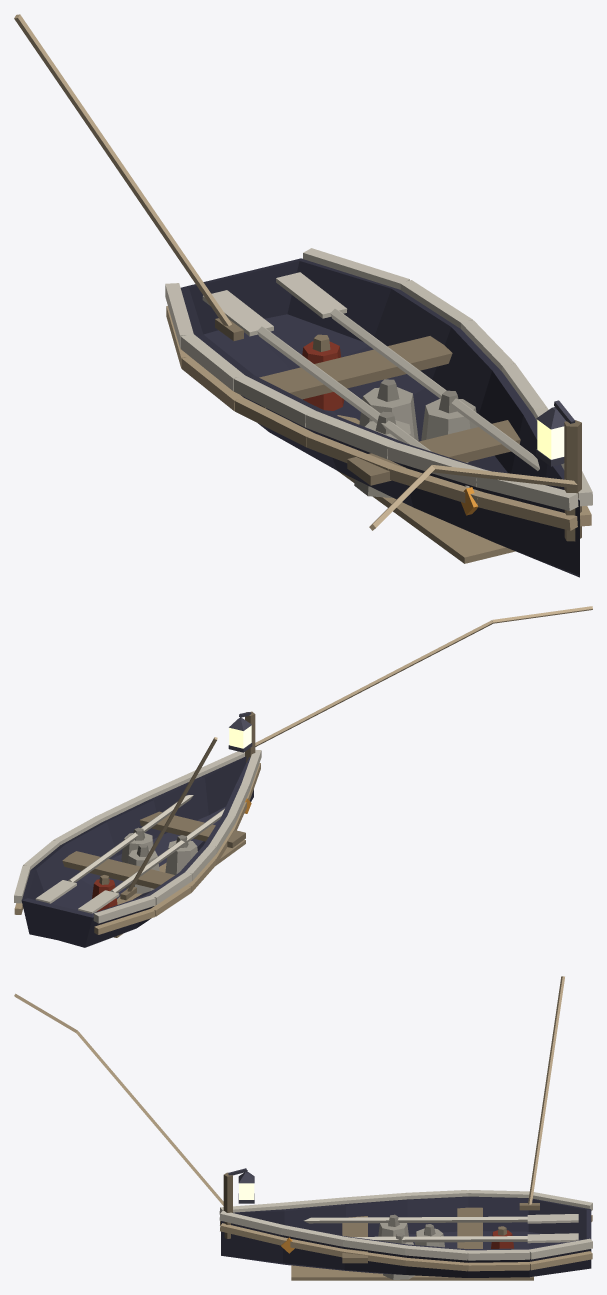
Rendered from kindleby_skiff_stage.glb.
The picture shows the model from 3 angles, top to bottom: view 1: azimuth 30°, elevation 25°; view 2: azimuth 150°, elevation 25°; view 3: azimuth 270°, elevation 25°; orthographic projection. The views are drawn at different scales.
Parts seen in each view (by area): view 1: ink_l12, bone_d12, driftwood_d30, driftwood_d10, driftwood_l5, bone_d28, driftwood_d20, driftwood_d35, coal_d25, bone_d40, kindle_glow, ink_l20; view 2: ink_l12, bone_d12, driftwood_d30, driftwood_l5, driftwood_d10, bone_d28; view 3: ink_l12, bone_d12, driftwood_d10, driftwood_l5, driftwood_d30, driftwood_d20, bone_d28, driftwood_d35.
Boxes of the visible parts, x1,y1,x2,y2 form: ink_l12: (180,258,579,577); bone_d12: (165,248,592,510); driftwood_d30: (215,318,520,485); driftwood_d10: (166,306,591,530); driftwood_l5: (14,14,577,530); bone_d28: (354,387,477,497); driftwood_d20: (337,415,515,563); driftwood_d35: (564,420,581,541); coal_d25: (302,341,344,410); bone_d40: (375,379,458,434); kindle_glow: (537,420,564,459); ink_l20: (536,400,575,466); ink_l12: (21,756,253,947); bone_d12: (14,749,261,923); driftwood_d30: (62,811,245,900); driftwood_l5: (127,606,592,891); driftwood_d10: (14,763,260,934); bone_d28: (121,833,197,893); ink_l12: (221,1196,591,1277); bone_d12: (219,1190,592,1260); driftwood_d10: (220,1215,592,1271); driftwood_l5: (14,976,564,1206); driftwood_d30: (342,1203,539,1263); driftwood_d20: (291,1265,533,1280); bone_d28: (378,1223,444,1279); driftwood_d35: (223,1172,232,1238).
Bounding box in the file's own units: 2.55 × 2.01 × 4.53.
